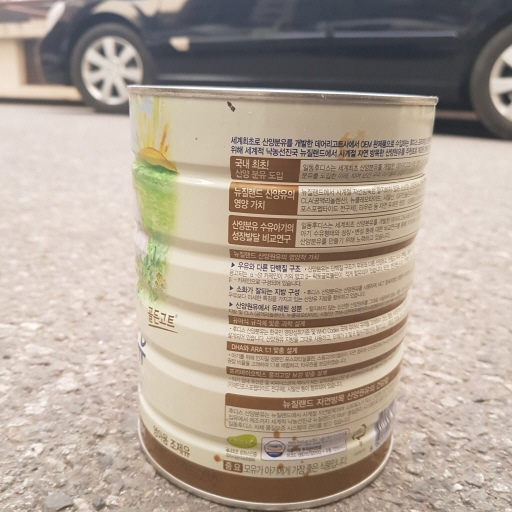Metal_1: (124, 81, 440, 505)
